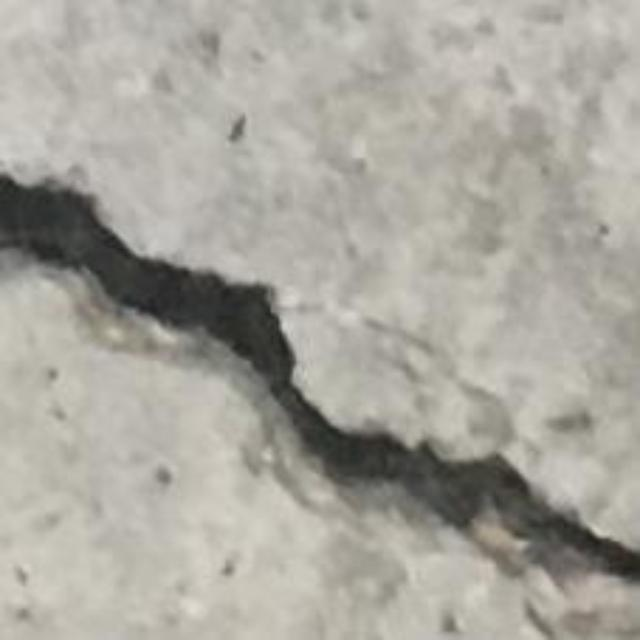crack: (0, 172, 639, 592)
